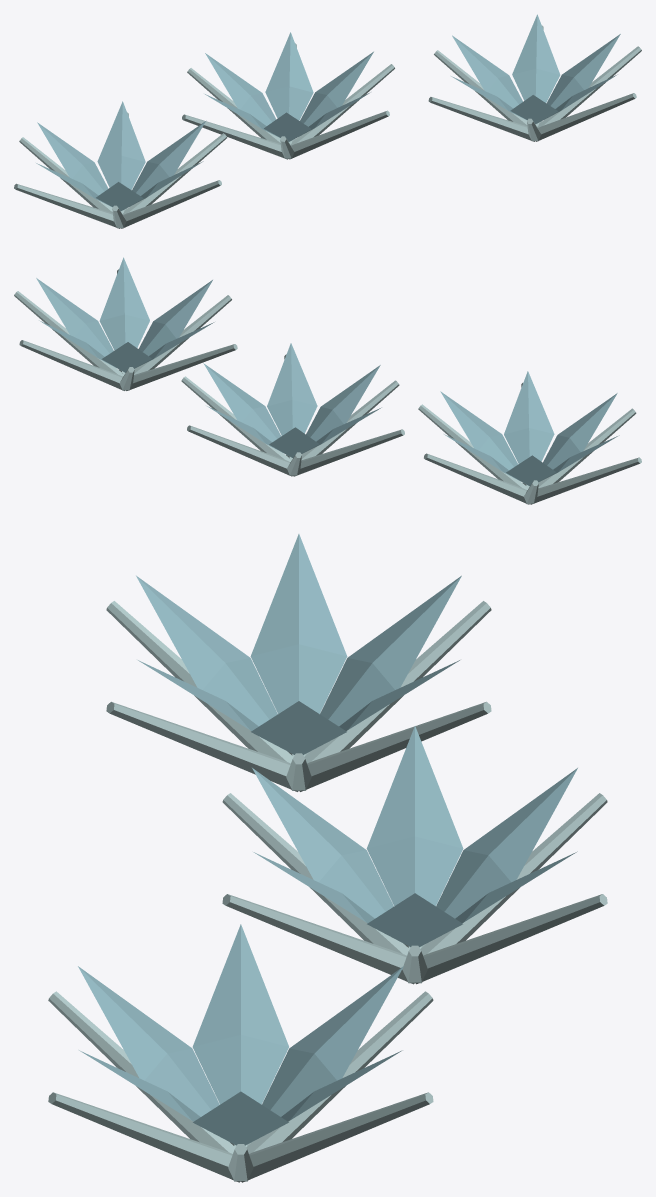
File: map-exclusive-v3__frost_15.glb
The picture shows the model from 3 angles, top to bottom: view 1: azimuth 30°, elevation 25°; view 2: azimuth 150°, elevation 25°; view 3: azimuth 270°, elevation 25°; orthographic projection. The views are drawn at different scales.
Visible parts, largest first — view 1: frost_15; view 2: frost_15; view 3: frost_15.
Part boxes in pixels (x1,y1,x2,y2): frost_15: (14,14,641,228); frost_15: (14,257,641,504); frost_15: (48,534,607,1182).
Size of the model in its own units: 2.92 by 0.3912 by 1.16.
